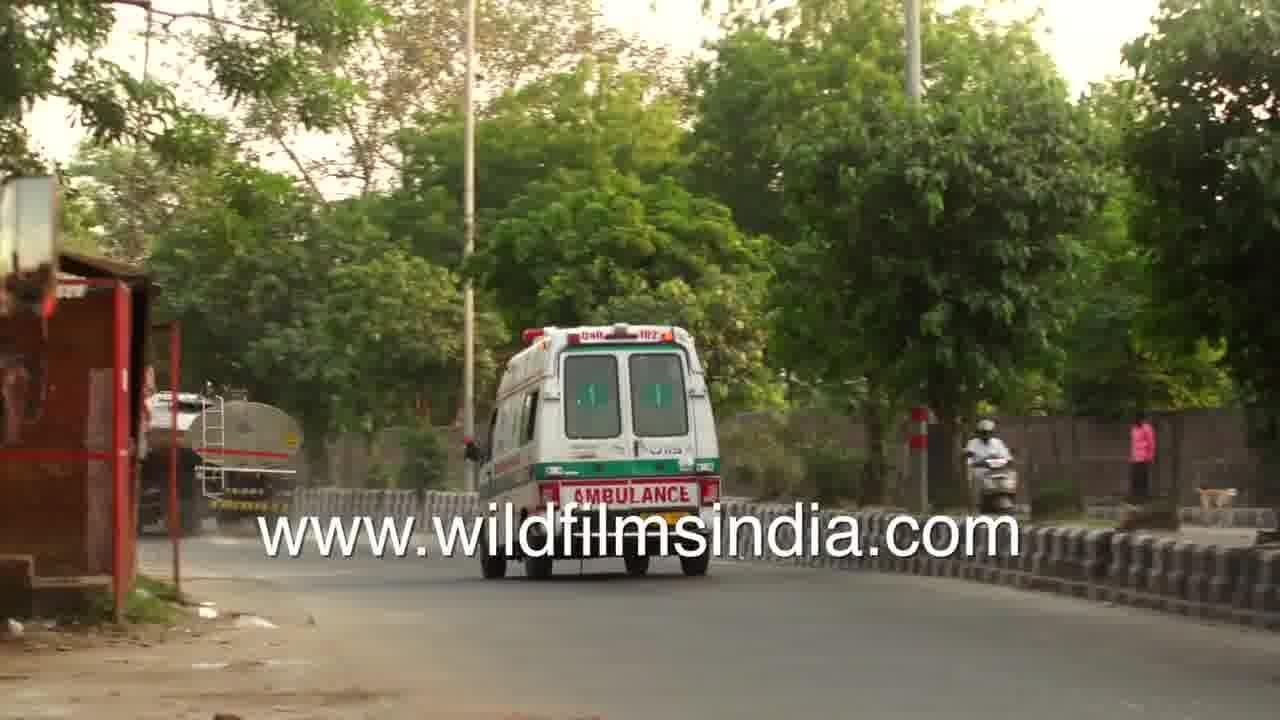AMBULANCE: (469, 315, 730, 516)
